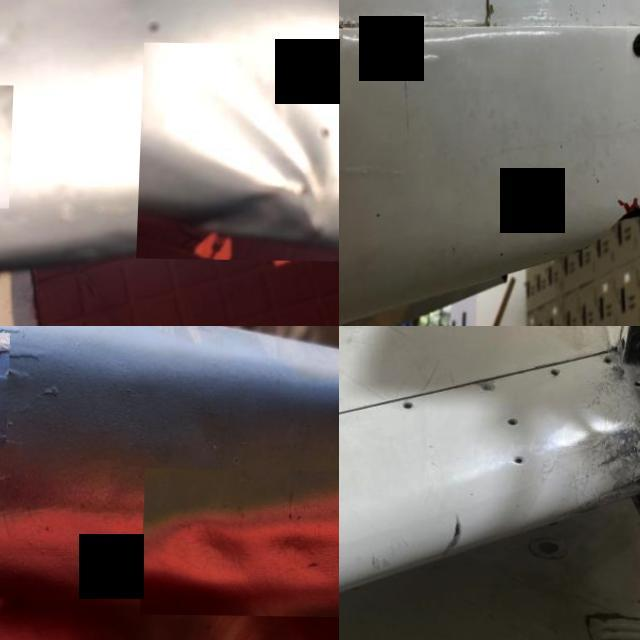Crack: (614, 179, 640, 219), (628, 16, 640, 72)
Dent: (139, 41, 339, 260), (142, 467, 339, 616)
Missing_Fastener: (506, 413, 524, 428), (400, 397, 419, 410), (550, 365, 566, 379), (514, 453, 530, 465), (602, 354, 617, 364), (631, 376, 640, 385)
